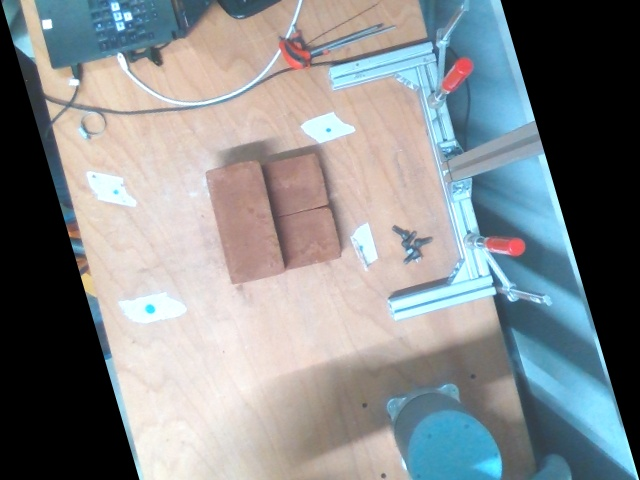brick: (205, 161, 281, 282)
